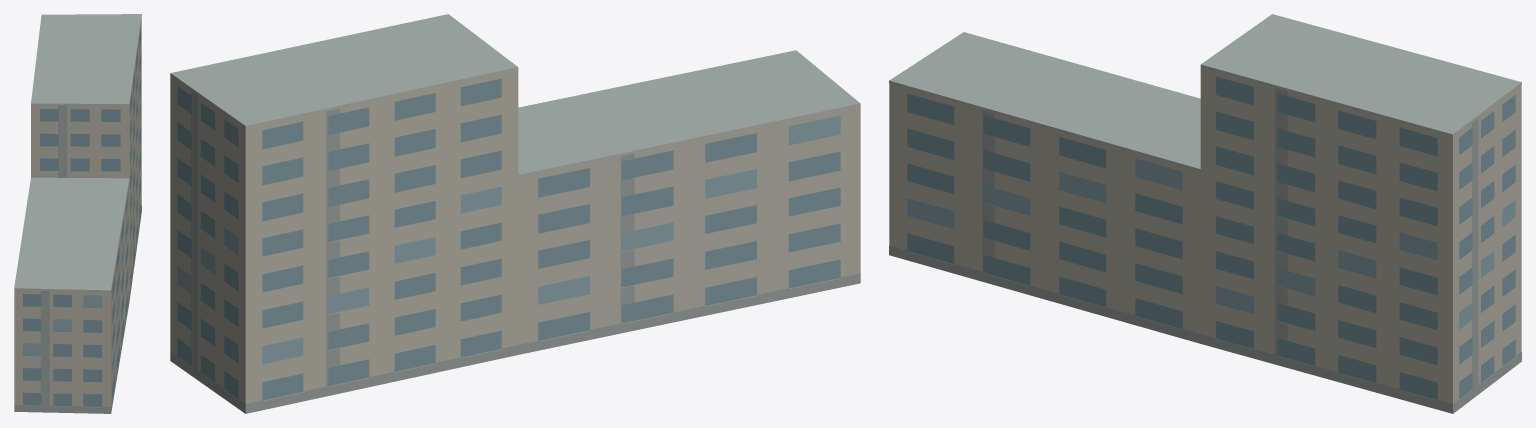
File: residential-ae3c3cae-da5b-4aef-b1f9-d935d027ea9c.glb
3 renders of one model, left to right at view 1: azimuth 30°, elevation 25°; view 2: azimuth 150°, elevation 25°; view 3: azimuth 270°, elevation 25°, orthographic. The views are drawn at different scales.
Visible parts, largest first — view 1: residential-ae3c3cae-da5b-4aef-b1f9-d935d027ea9c.tmp; view 2: residential-ae3c3cae-da5b-4aef-b1f9-d935d027ea9c.tmp; view 3: residential-ae3c3cae-da5b-4aef-b1f9-d935d027ea9c.tmp.
Boxes of the visible parts, left/top/right/bottom form: residential-ae3c3cae-da5b-4aef-b1f9-d935d027ea9c.tmp: left=14, top=14, right=141, bottom=413; residential-ae3c3cae-da5b-4aef-b1f9-d935d027ea9c.tmp: left=170, top=14, right=860, bottom=413; residential-ae3c3cae-da5b-4aef-b1f9-d935d027ea9c.tmp: left=889, top=14, right=1521, bottom=413.
Size of the model in its own units: 38.85 by 24.4 by 50.08.
